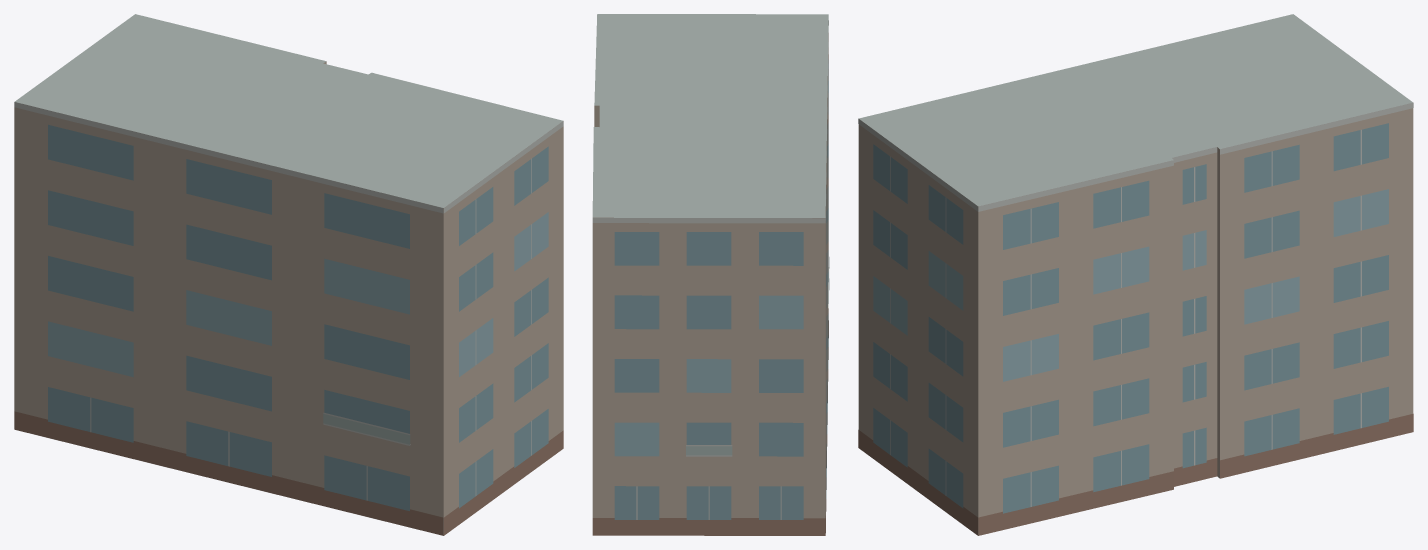
File: survey-upis-32696179.glb
The picture shows the model from 3 angles, left to right: view 1: azimuth 30°, elevation 25°; view 2: azimuth 150°, elevation 25°; view 3: azimuth 270°, elevation 25°; orthographic projection. The views are drawn at different scales.
Parts seen in each view (by area): view 1: survey-upis-32696179.tmp; view 2: survey-upis-32696179.tmp; view 3: survey-upis-32696179.tmp.
Part boxes in pixels (x1,y1,x2,y2): survey-upis-32696179.tmp: (14,14,563,535); survey-upis-32696179.tmp: (592,14,829,535); survey-upis-32696179.tmp: (858,14,1413,535).
Size of the model in its own units: 18.3 by 14.6 by 22.3.
